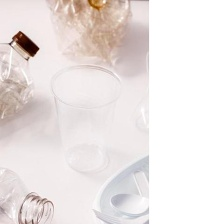bottle: (42, 0, 133, 70), (0, 27, 42, 125), (0, 160, 56, 224)
glass: (46, 58, 127, 178)
